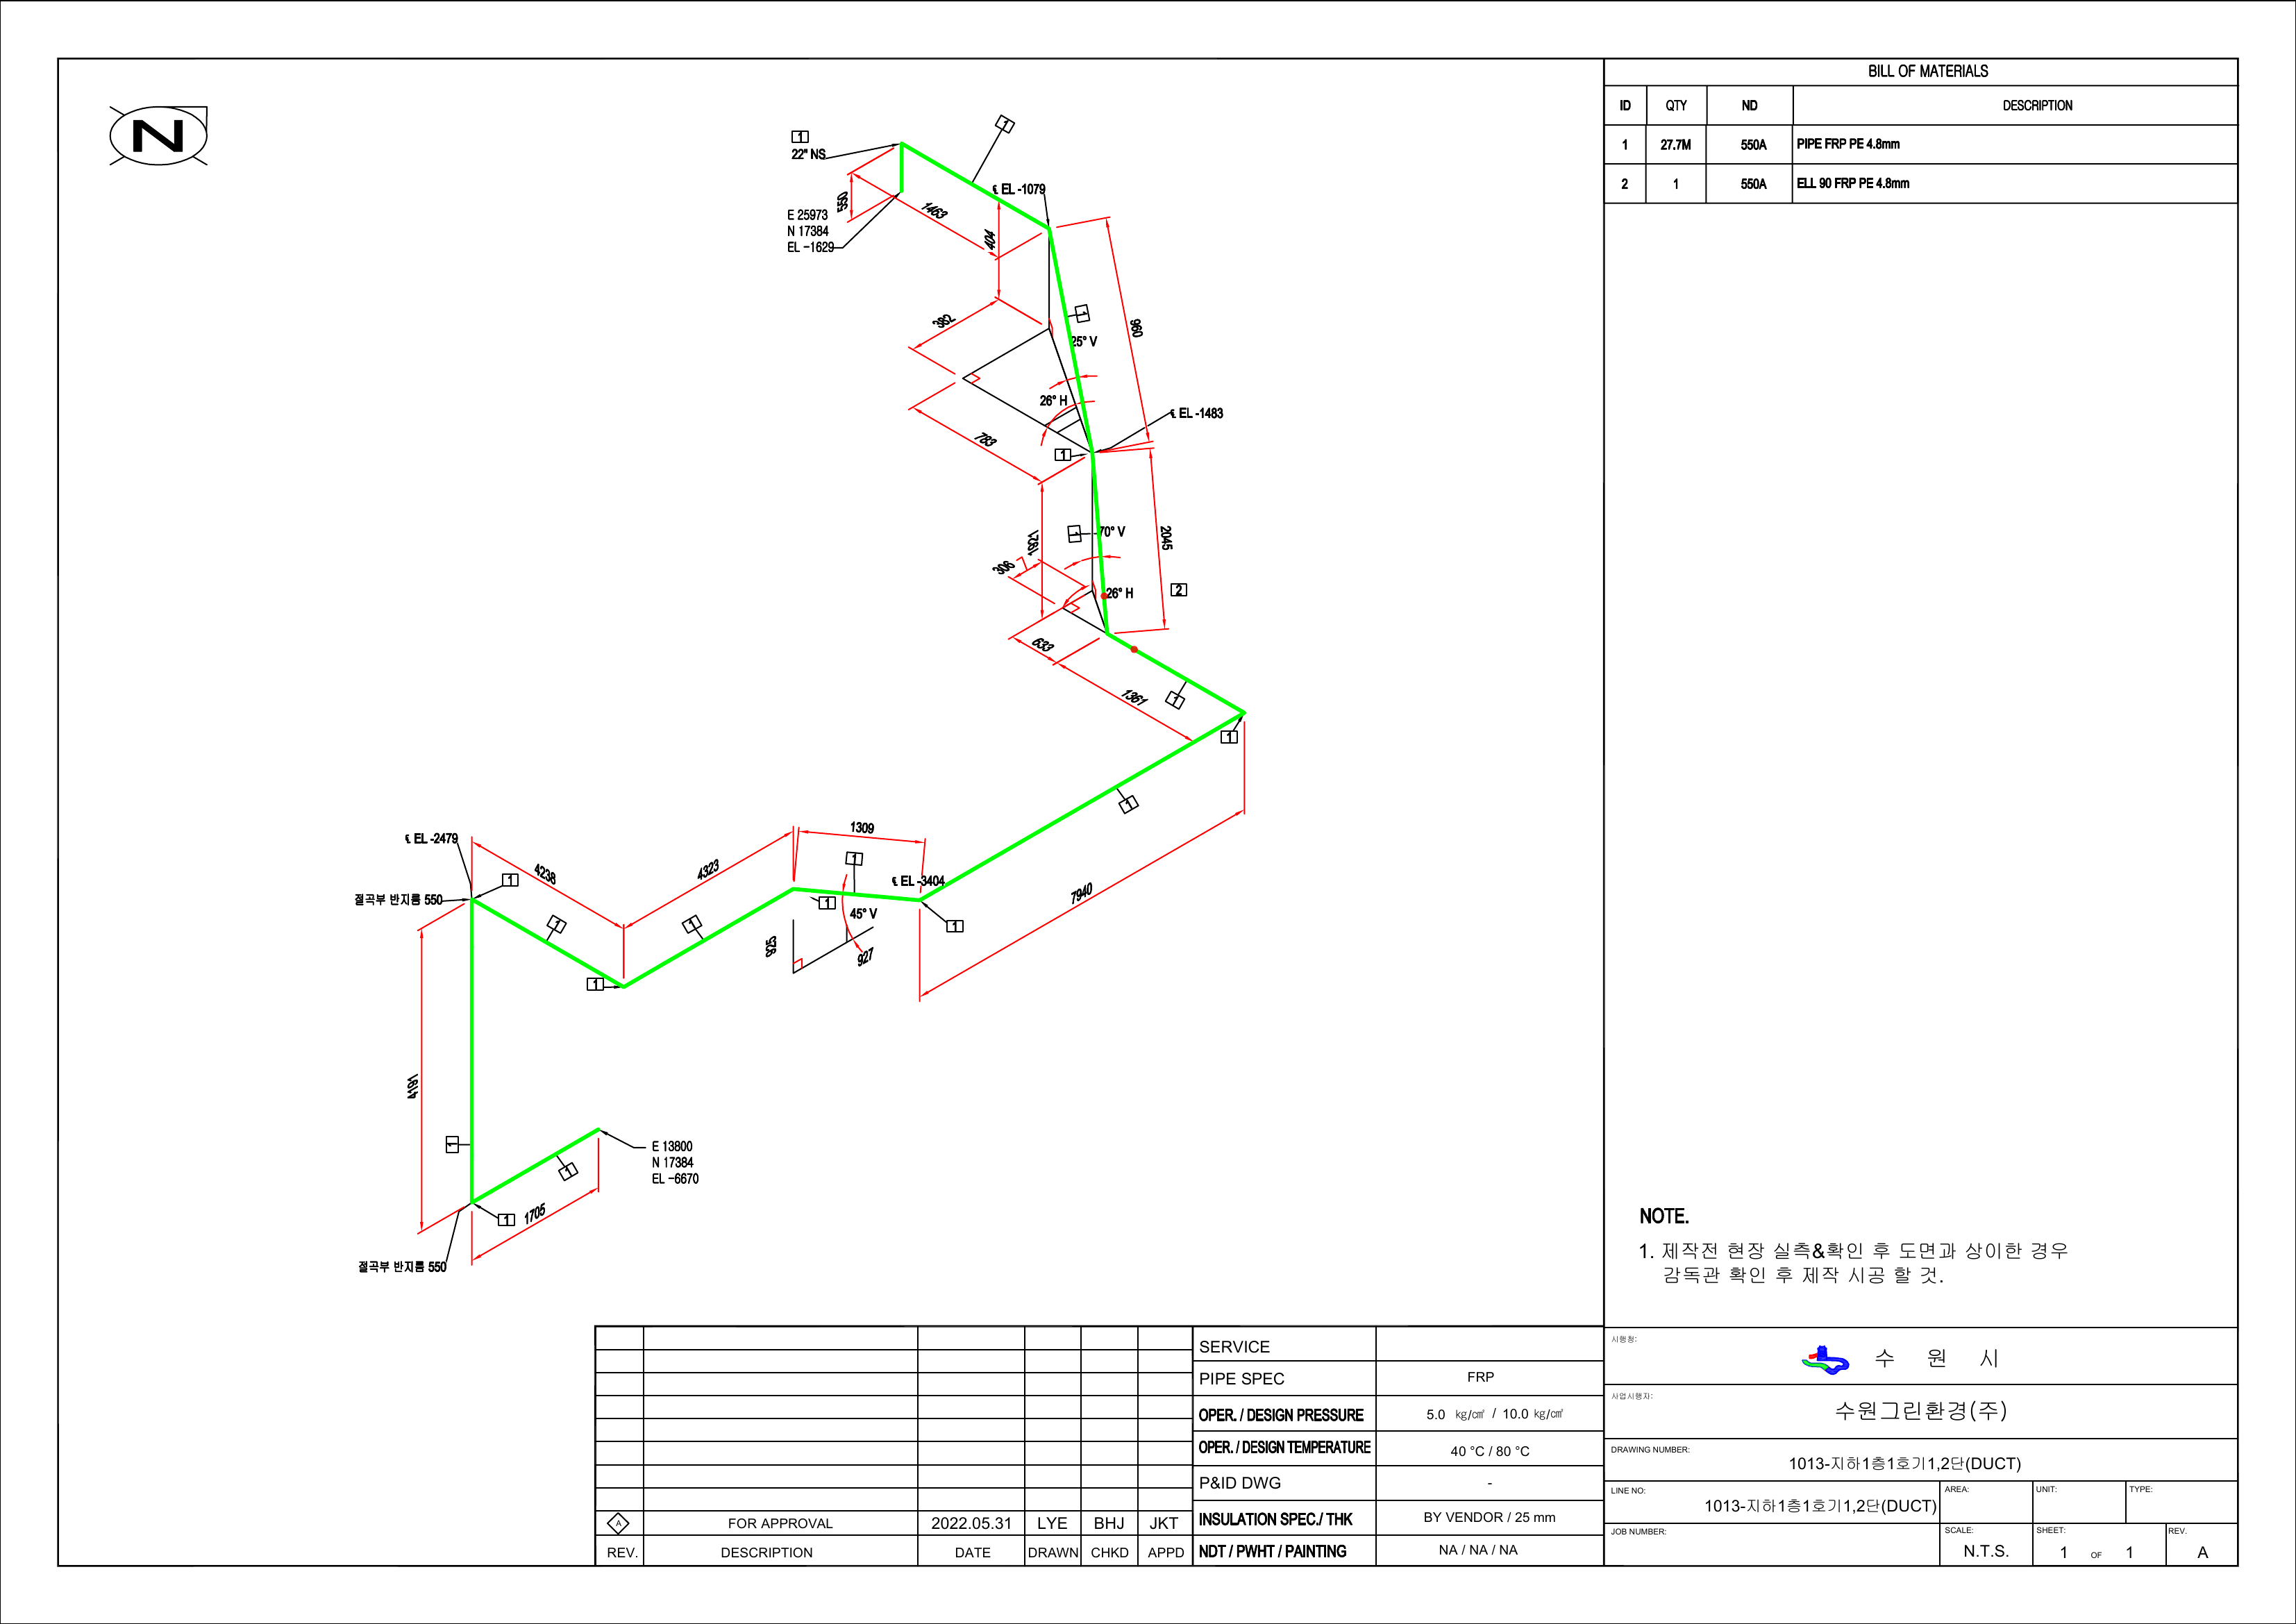table: (1597, 47, 2247, 214)
